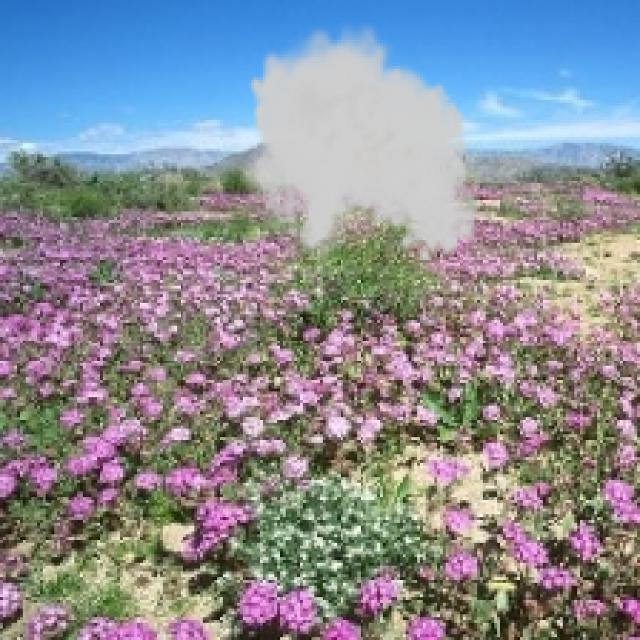smoke: (234, 17, 480, 266)
